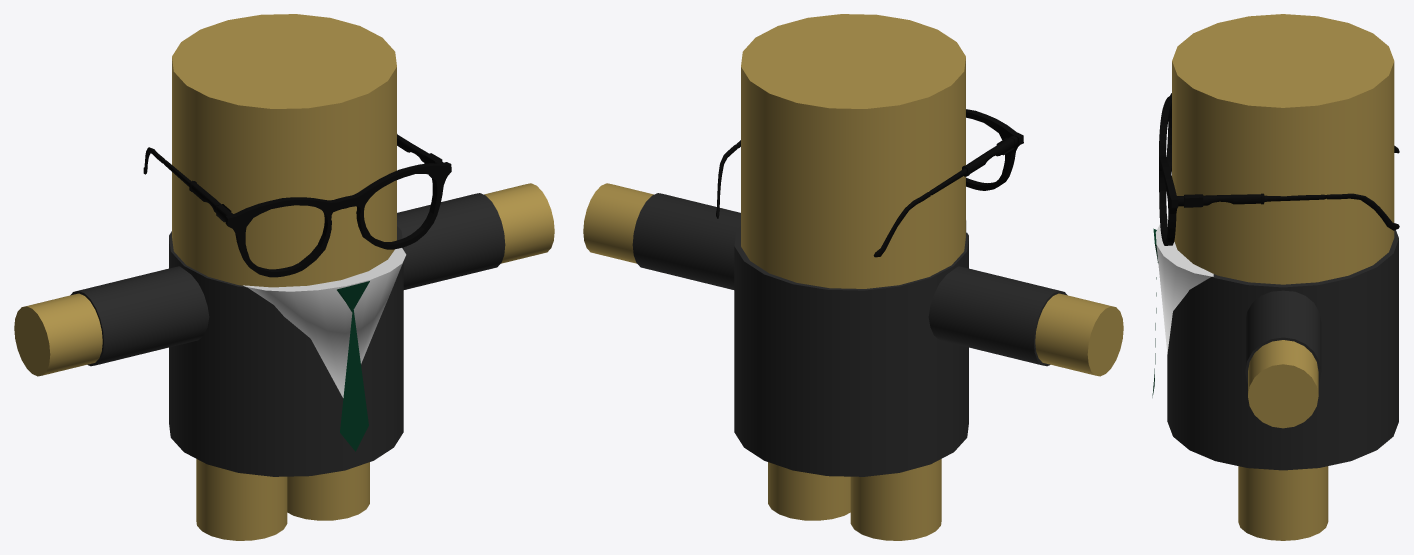
File: officer.fbx
The picture shows the model from 3 angles, left to right: view 1: azimuth 30°, elevation 25°; view 2: azimuth 150°, elevation 25°; view 3: azimuth 270°, elevation 25°; orthographic projection.
Parts seen in each view (by area): view 1: officer2; view 2: officer2; view 3: officer2.
Boxes of the visible parts, <box> form: officer2: <box>14,14,554,540</box>; officer2: <box>583,14,1123,540</box>; officer2: <box>1152,14,1399,540</box>.
Bounding box in the file's own units: 5.15 × 4.38 × 2.23.
